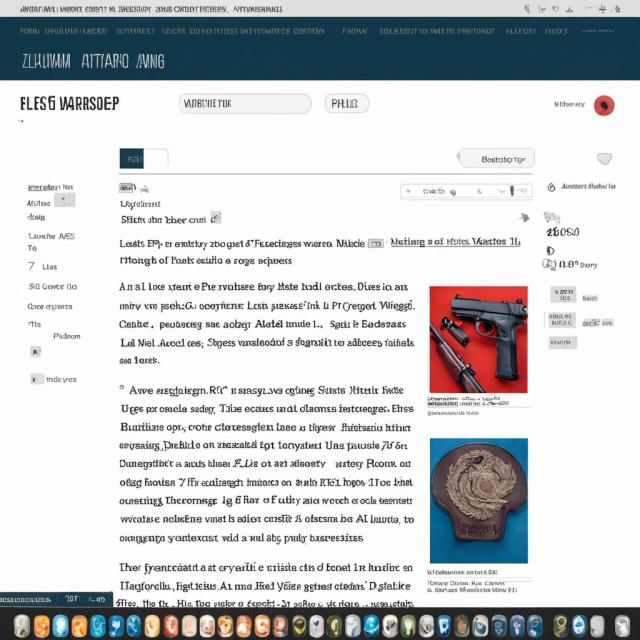gun: (448, 294, 531, 381)
